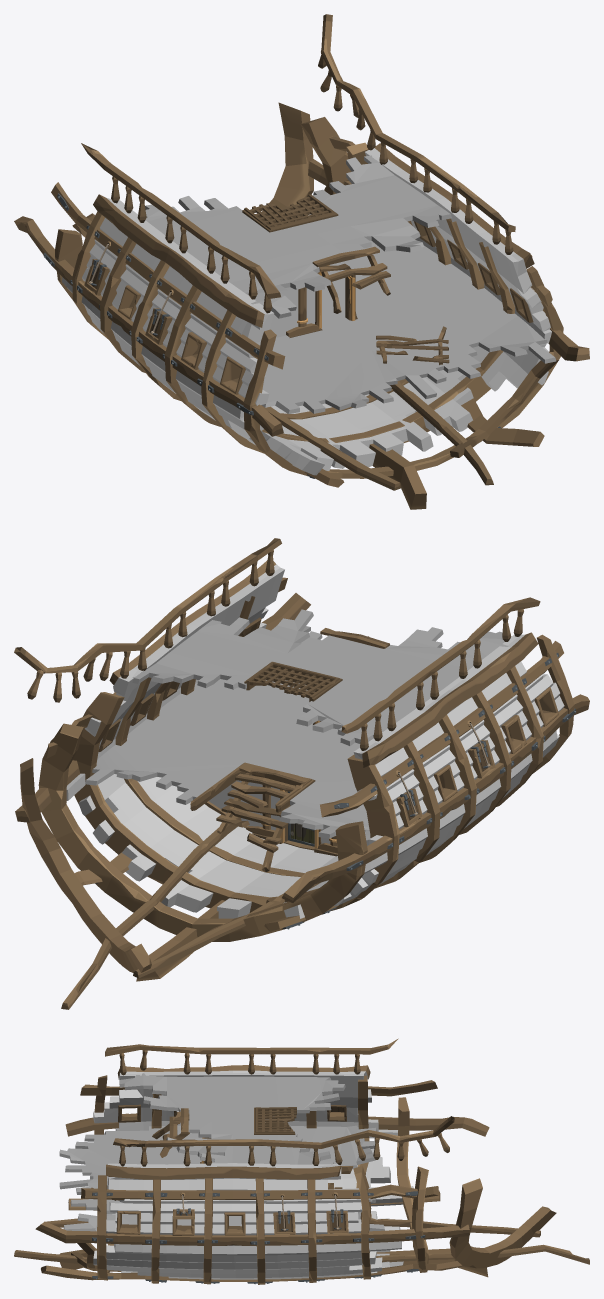
The model's file is SM_Prop_Wreck_Large_Middle_01.fbx.
The picture shows the model from 3 angles, top to bottom: view 1: azimuth 30°, elevation 25°; view 2: azimuth 150°, elevation 25°; view 3: azimuth 270°, elevation 25°; orthographic projection. The views are drawn at different scales.
Parts seen in each view (by area): view 1: SM_Prop_Wreck_Large_Middle_01; view 2: SM_Prop_Wreck_Large_Middle_01; view 3: SM_Prop_Wreck_Large_Middle_01.
Part boxes in pixels (bbox=[...]): SM_Prop_Wreck_Large_Middle_01: bbox=[14, 14, 589, 509]; SM_Prop_Wreck_Large_Middle_01: bbox=[14, 538, 589, 1009]; SM_Prop_Wreck_Large_Middle_01: bbox=[14, 1038, 589, 1284].
Bounding box in the file's own units: 1371 × 1053 × 2569.
